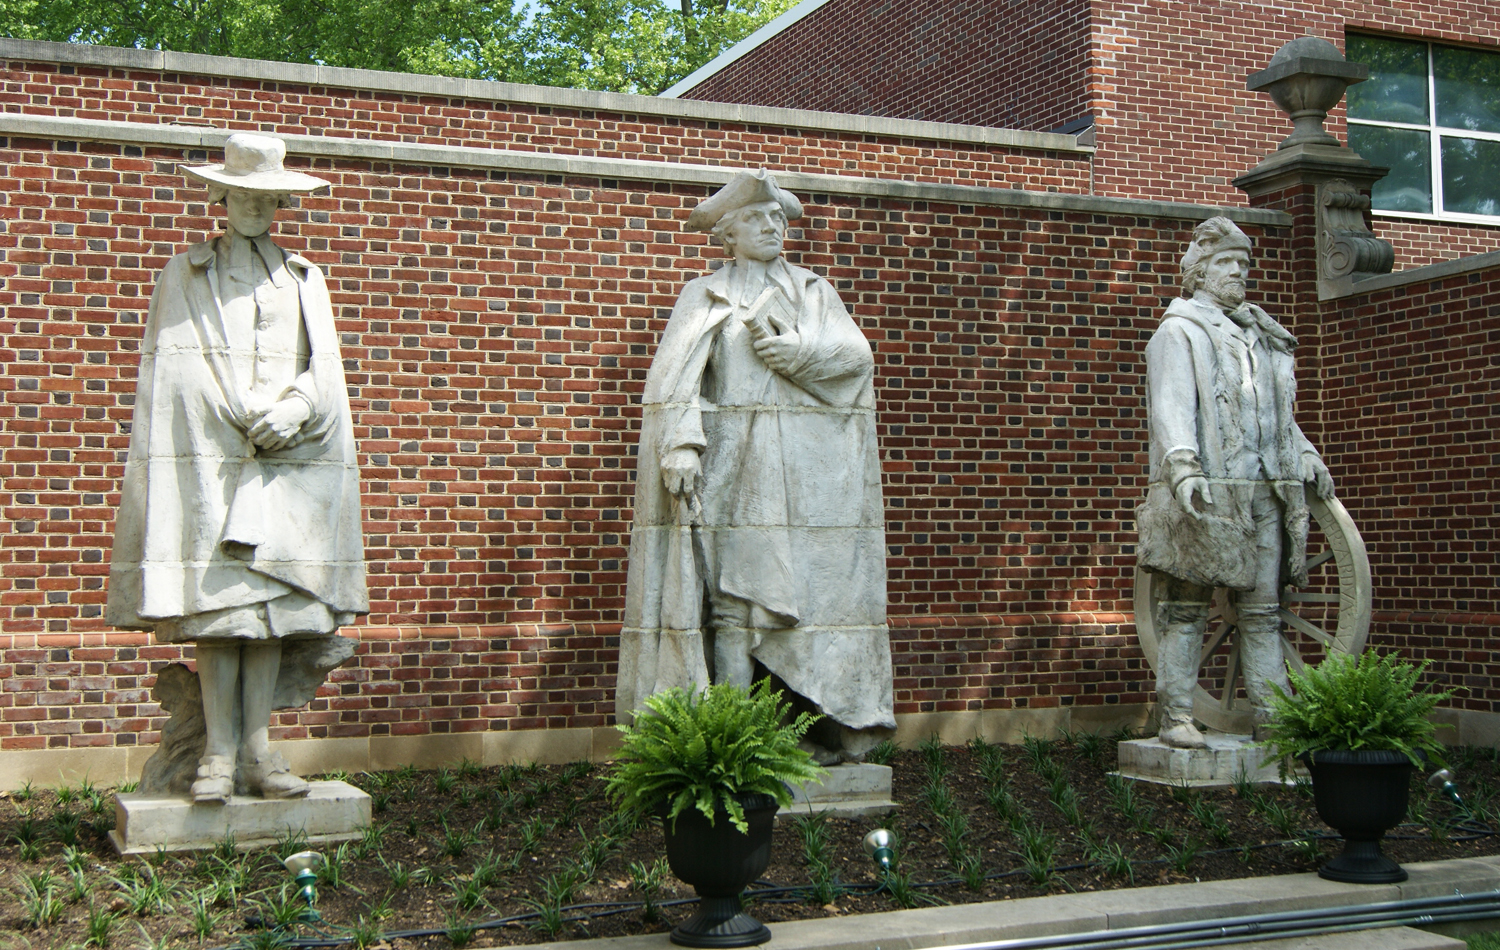person-like: (98, 113, 380, 816), (598, 160, 909, 777), (1114, 204, 1325, 759)
